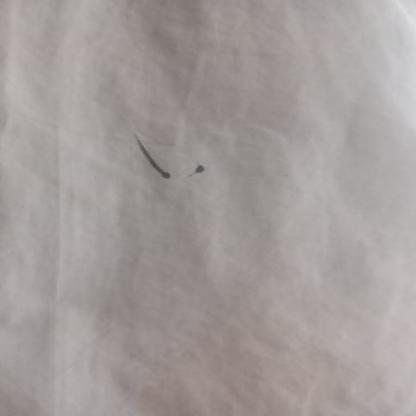spot: (125, 124, 210, 184)
